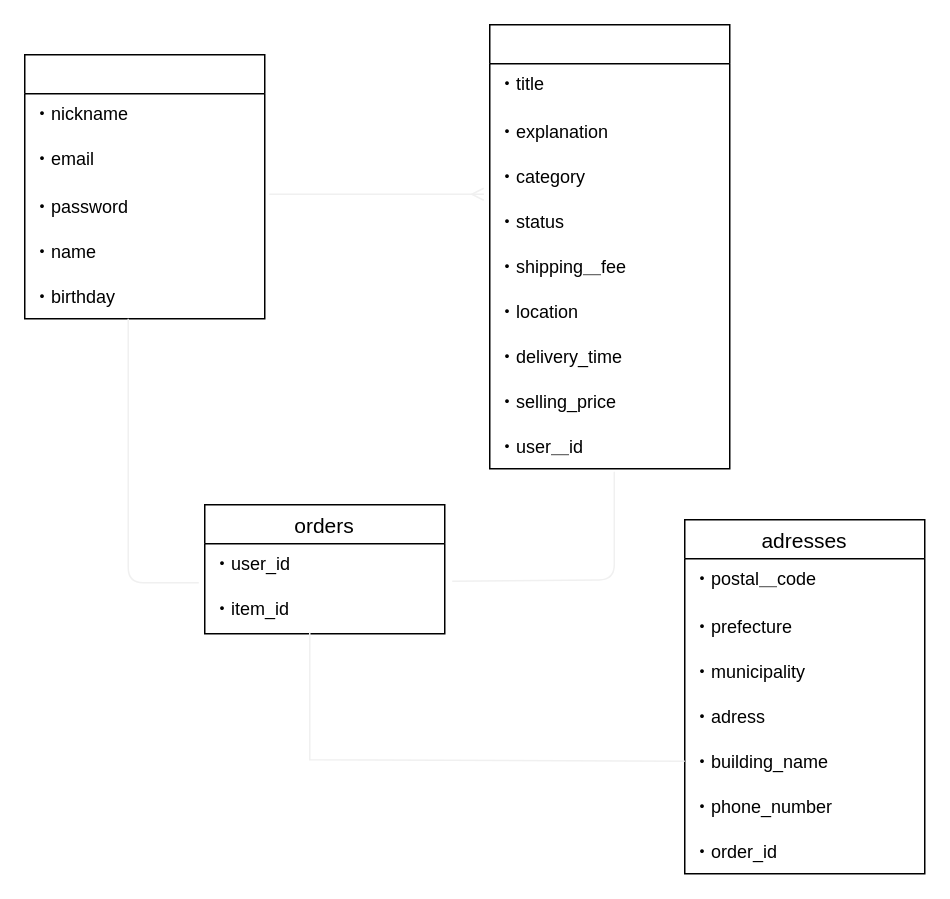
This 950x899 diagram has some shape labels left out. The shapes that lost their labels are listed below. From the top down, each one's box as (x1, y1, x2, y2) in pixels, then its label:
(23, 53, 265, 319): users
(488, 23, 730, 469): items
